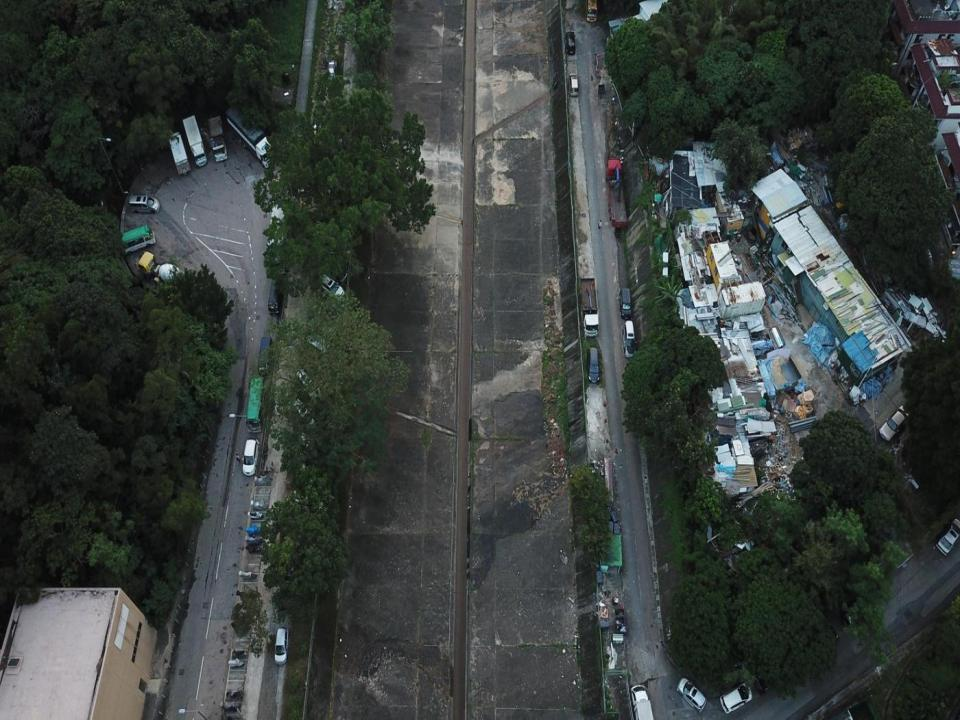car: (878, 405, 910, 440), (676, 677, 706, 713), (720, 682, 753, 714), (312, 270, 345, 300), (936, 518, 960, 556), (295, 368, 321, 400), (293, 397, 317, 430), (242, 438, 259, 475), (274, 627, 288, 665), (622, 321, 635, 358), (619, 288, 632, 319), (588, 347, 599, 382), (565, 30, 576, 56), (568, 73, 579, 97), (587, 0, 597, 21), (328, 60, 336, 82)
truck: (226, 102, 275, 168), (138, 251, 187, 297), (605, 158, 627, 228), (182, 115, 207, 167), (268, 196, 290, 251), (267, 260, 288, 316), (580, 277, 599, 336), (168, 132, 191, 176), (208, 116, 228, 163), (631, 684, 654, 719)
van: (120, 224, 161, 256), (246, 377, 264, 433), (258, 337, 273, 377), (128, 195, 159, 212)
